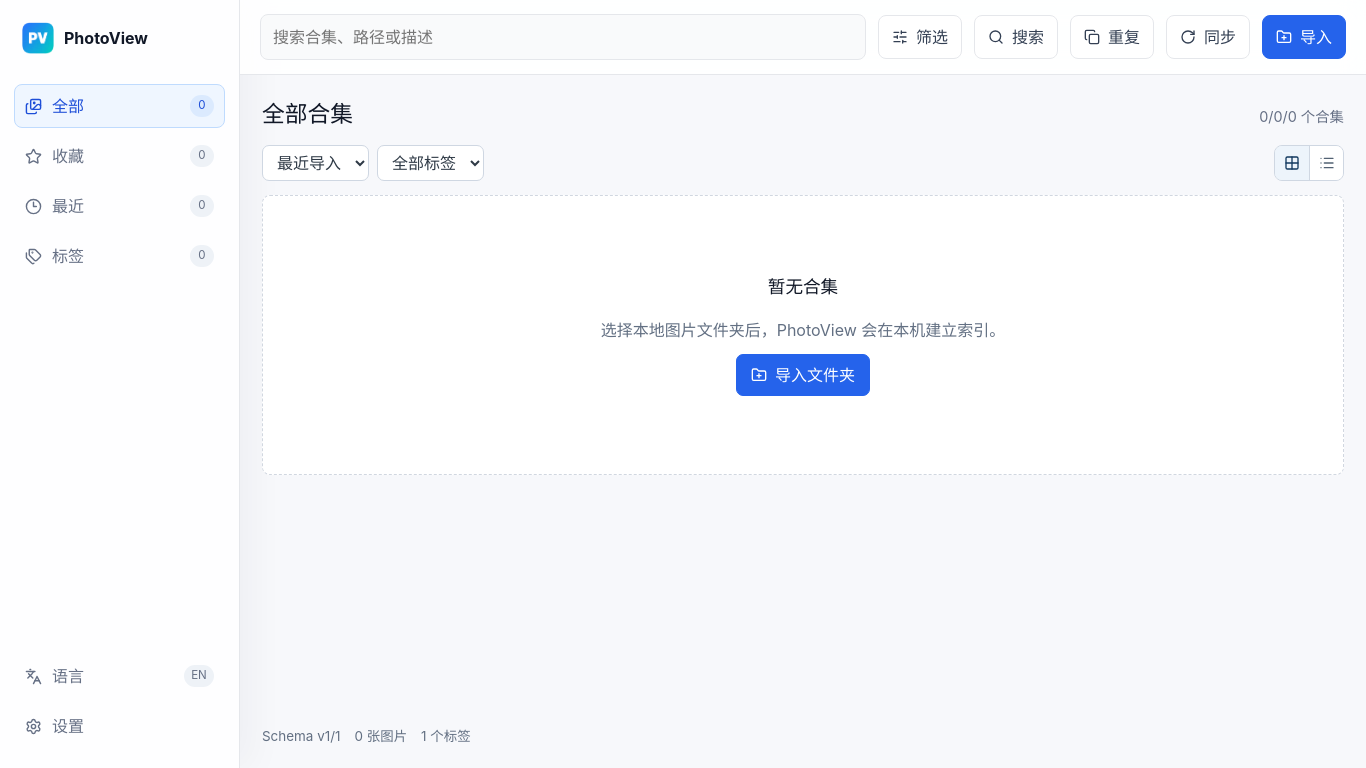
Test case: App › moves database storage after the user confirms a new folder
What coordinates should you click on to do the following:
click the button "设置"
I would click on:
 (120, 726)
Its box is [14,704,225,748].
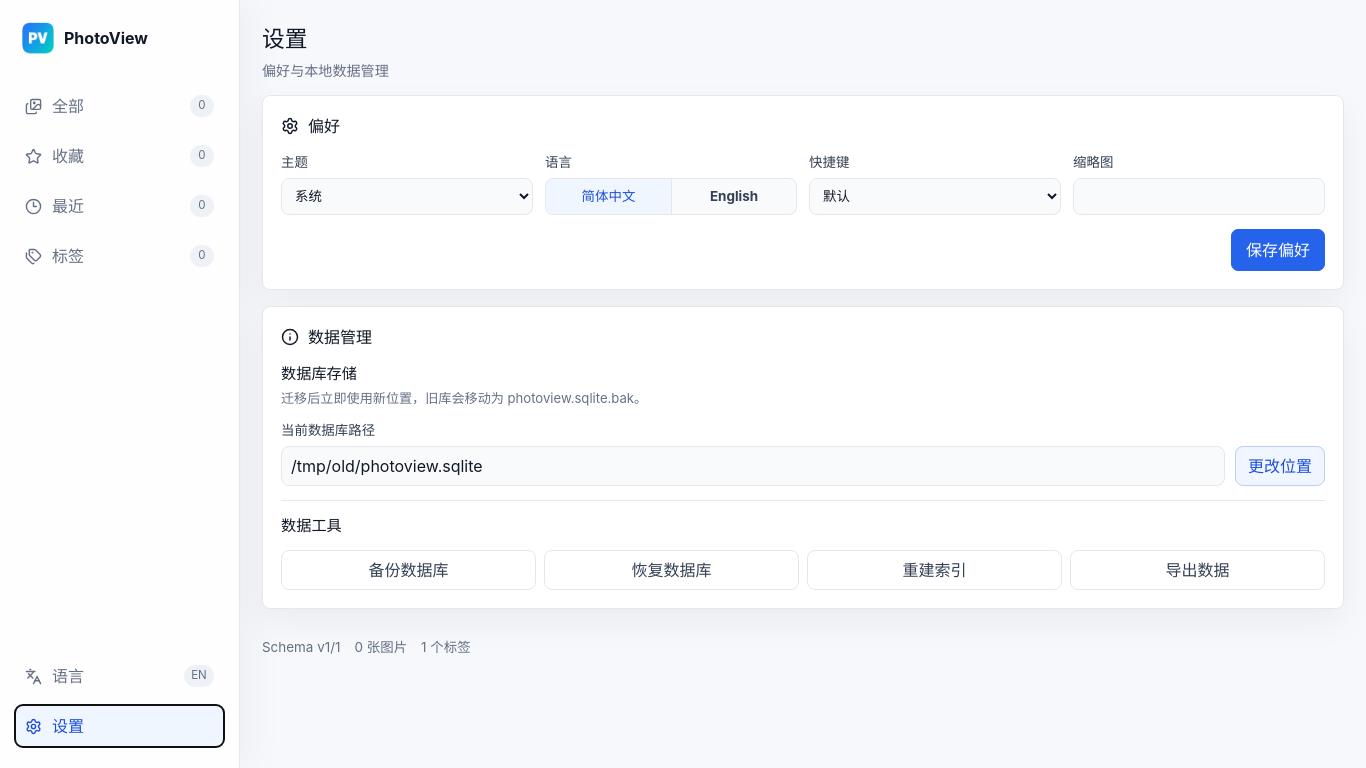
Now the text "/tmp/old/photoview.sqlite" is shown, box [281,446,1225,486]
What coordinates should you click on to do the following:
click the button "更改位置"
I would click on:
 (1280, 466)
Its box is [1235,446,1325,486].
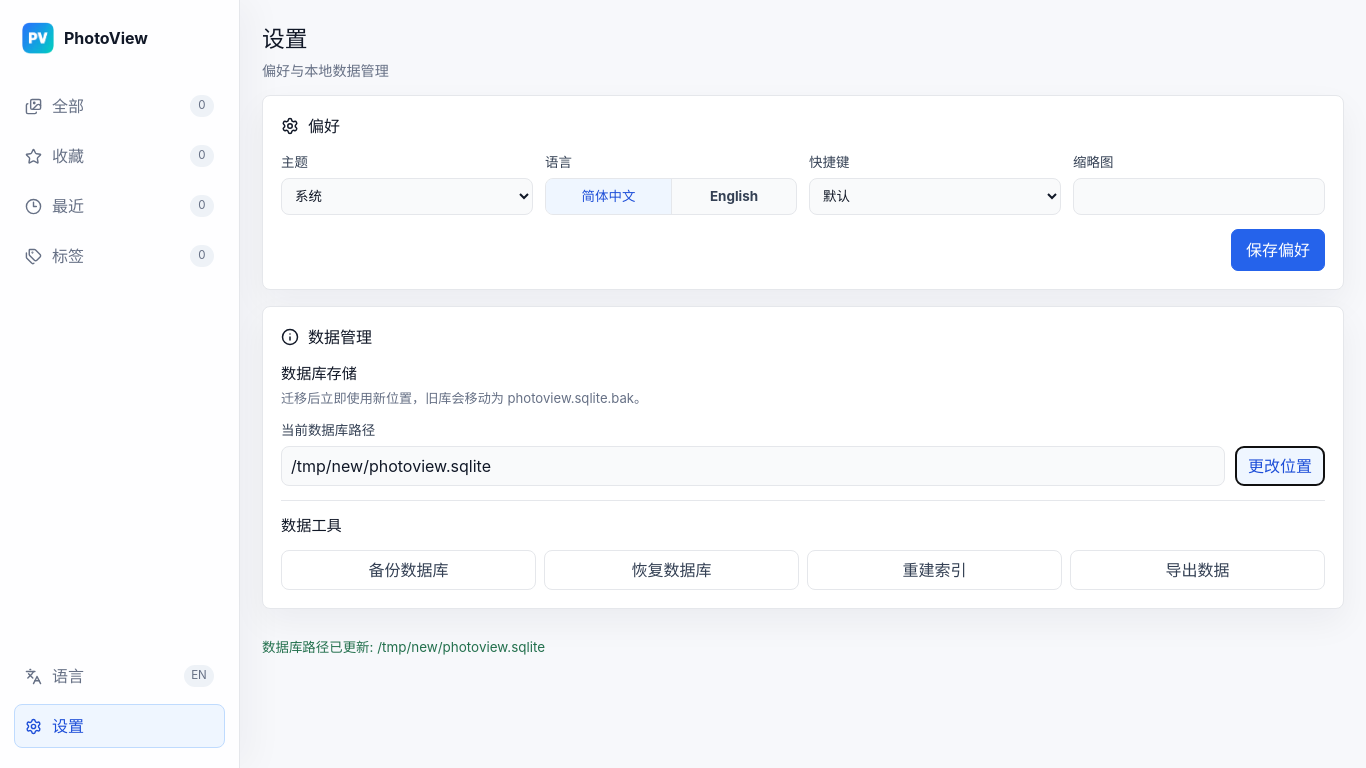
Now the text "/tmp/new/photoview.sqlite" is shown, box [281,446,1225,486]
Now the text "数据库路径已更新: /tmp/new/photoview.sqlite" is shown, box [262,637,545,658]
